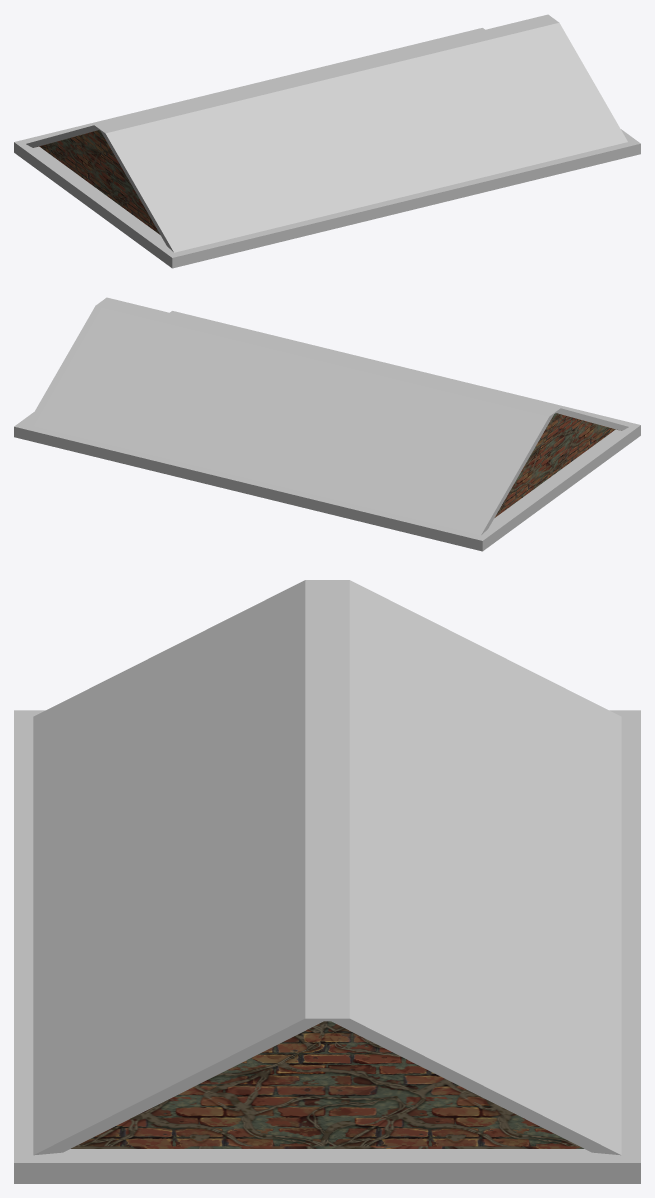
Rendered from largerRoof.fbx.
3 renders of one model, top to bottom at view 1: azimuth 30°, elevation 25°; view 2: azimuth 150°, elevation 25°; view 3: azimuth 270°, elevation 25°, orthographic. The views are drawn at different scales.
Parts seen in each view (by area): view 1: Cube; view 2: Cube; view 3: Cube.
Boxes of the visible parts, box(x1,y1,x2,y2) form: Cube: box(14, 14, 640, 268); Cube: box(14, 297, 640, 551); Cube: box(14, 580, 640, 1183).
Bounding box in the file's own units: 6516 × 1058 × 3814.
